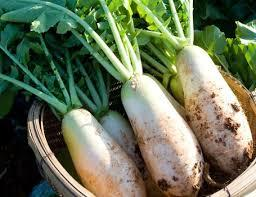radish: (48, 22, 82, 61), (70, 13, 102, 54), (23, 33, 58, 61)
